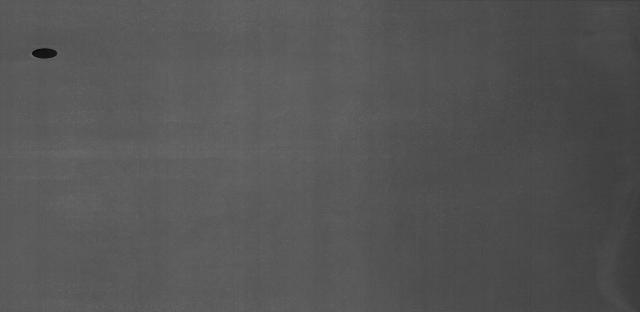punching_hole: (26, 43, 61, 63)
